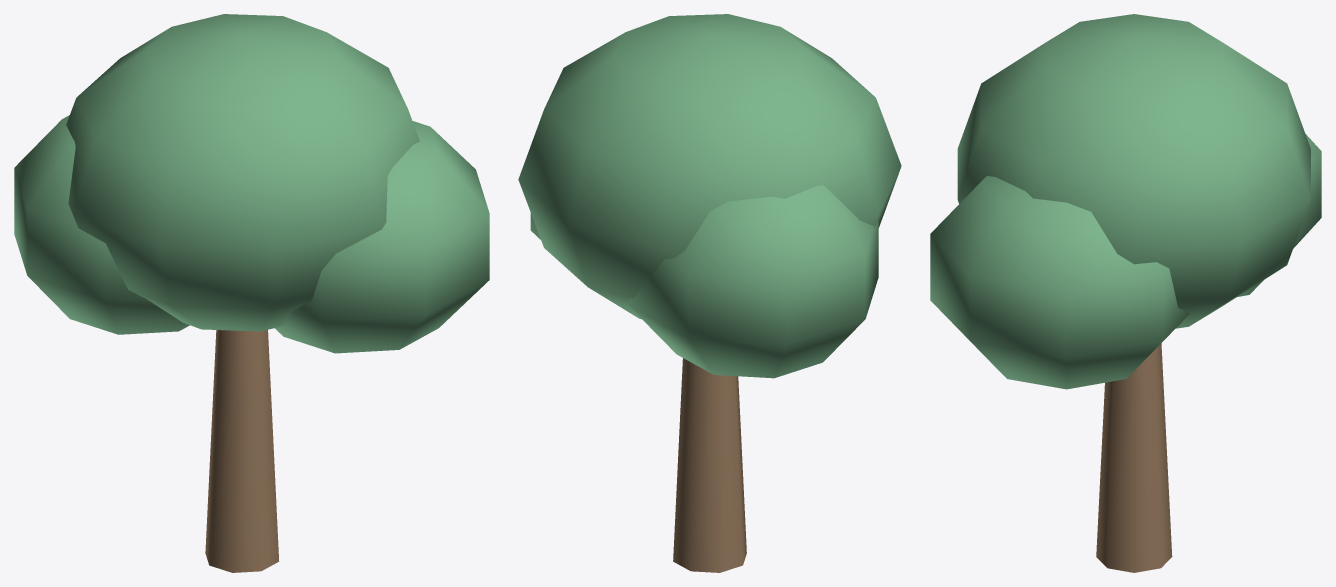
File: tree_oak.glb
The picture shows the model from 3 angles, left to right: view 1: azimuth 30°, elevation 25°; view 2: azimuth 150°, elevation 25°; view 3: azimuth 270°, elevation 25°; orthographic projection.
Visible parts, largest first — view 1: oak_canopy, oak_trunk; view 2: oak_canopy, oak_trunk; view 3: oak_canopy, oak_trunk.
Boxes of the visible parts, x1,y1,x2,y2 form: oak_canopy: [14, 14, 489, 353]; oak_trunk: [205, 330, 279, 572]; oak_canopy: [518, 14, 901, 378]; oak_trunk: [673, 358, 746, 572]; oak_canopy: [930, 14, 1321, 389]; oak_trunk: [1096, 343, 1172, 572].
Size of the model in its own units: 5.24 by 6.8 by 4.64.
